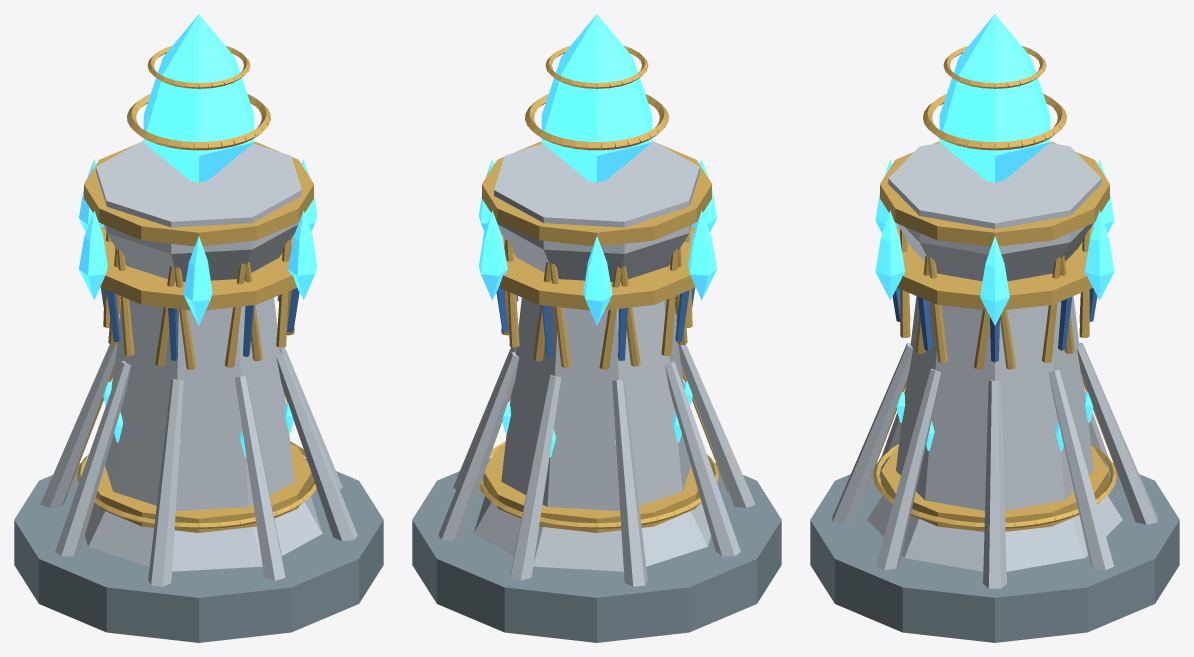
The model's file is lux_tower_architecture_review.glb.
3 renders of one model, left to right at view 1: azimuth 30°, elevation 25°; view 2: azimuth 150°, elevation 25°; view 3: azimuth 270°, elevation 25°, orthographic.
Parts seen in each view (by area): view 1: lux_tower; view 2: lux_tower; view 3: lux_tower.
Boxes of the visible parts, <box> form: lux_tower: <box>14,14,383,642</box>; lux_tower: <box>412,14,781,642</box>; lux_tower: <box>810,14,1179,642</box>.
Size of the model in its own units: 5.2 by 8.55 by 5.2.
